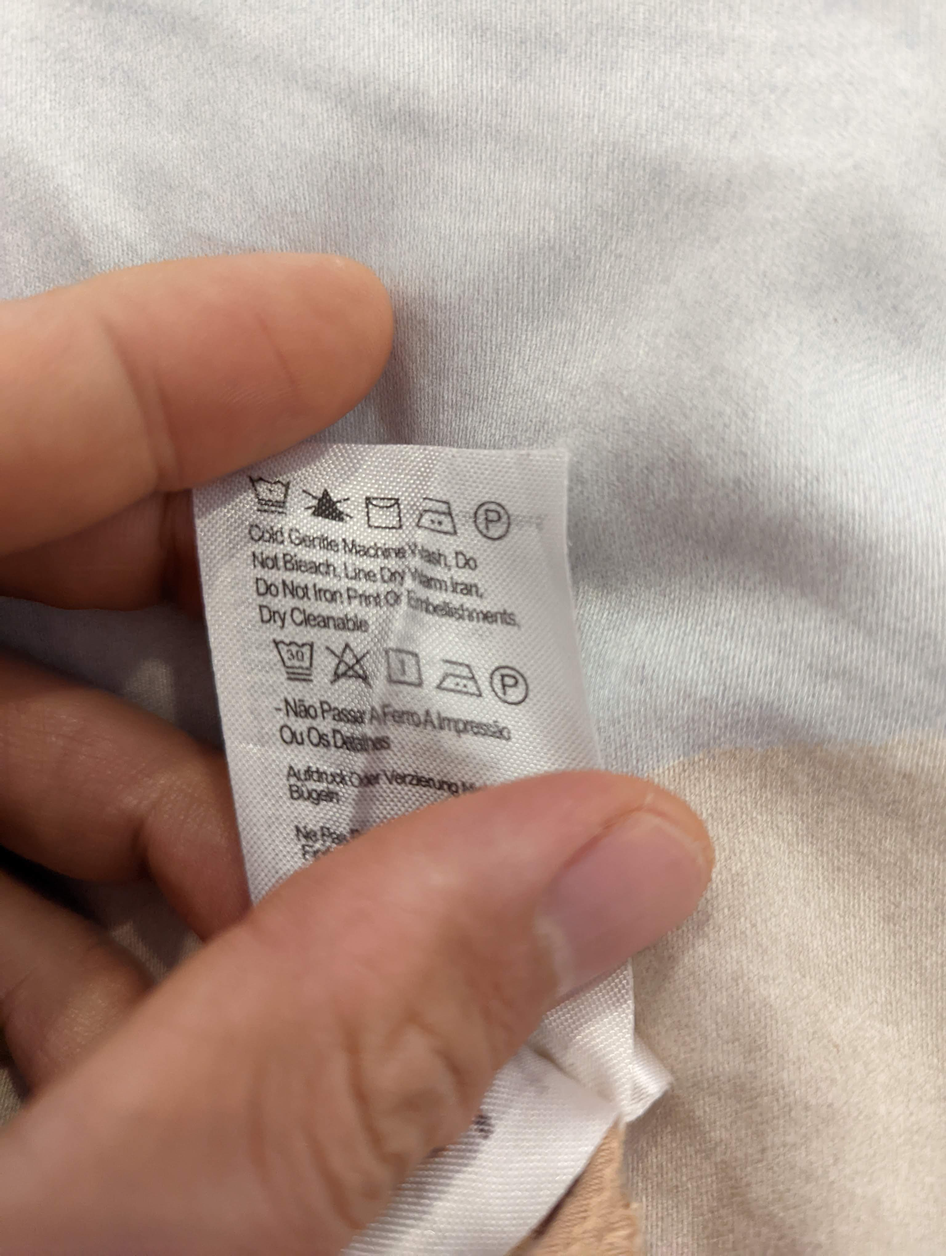ER_dry_clean_chemical: (488, 658, 532, 709)
ER_flat_dry: (380, 640, 428, 693)
ER_iron_medium_temp: (432, 653, 489, 703)
ER_no_bleach: (322, 637, 376, 691)
ER_wash_30_mild: (269, 633, 320, 685)
